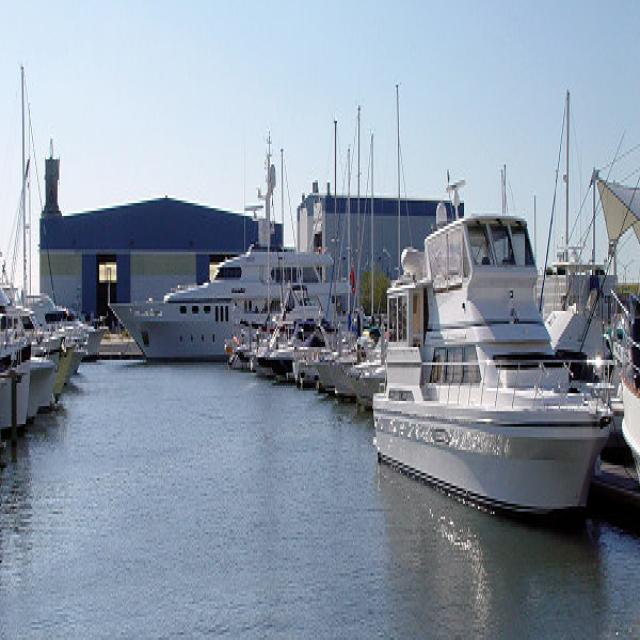houseboat: (368, 210, 602, 530)
